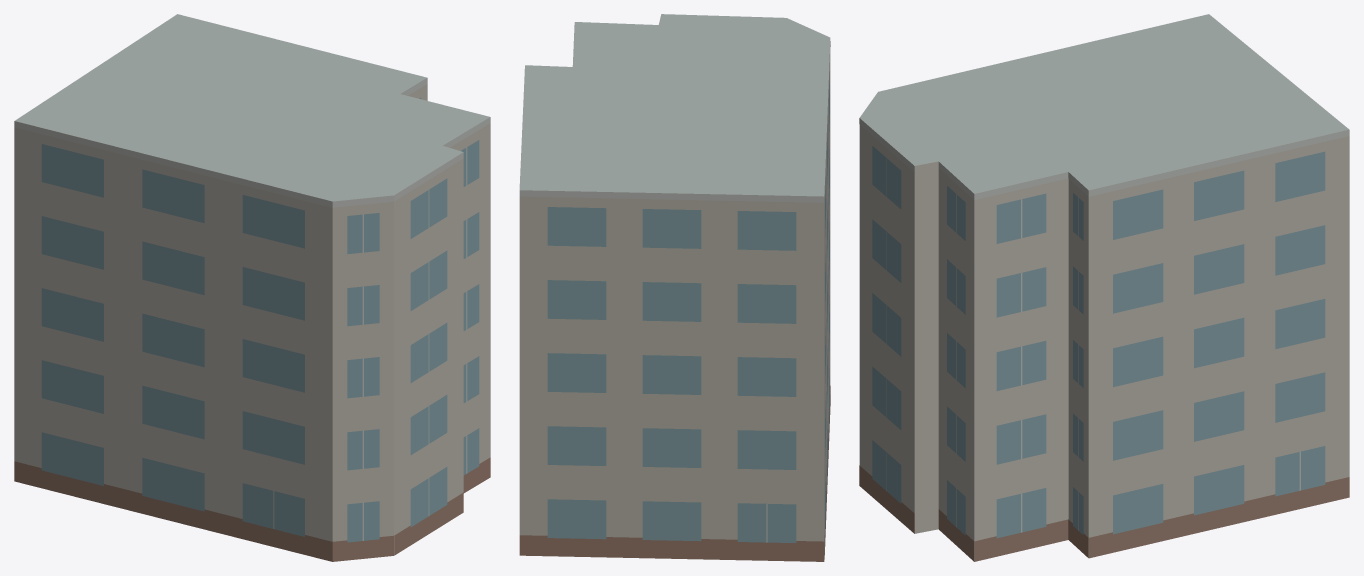
Rendered from survey-upis-32836637.glb.
3 renders of one model, left to right at view 1: azimuth 30°, elevation 25°; view 2: azimuth 150°, elevation 25°; view 3: azimuth 270°, elevation 25°, orthographic. The views are drawn at different scales.
Visible parts, largest first — view 1: survey-upis-32836637.tmp; view 2: survey-upis-32836637.tmp; view 3: survey-upis-32836637.tmp.
Part boxes in pixels (x1,y1,x2,y2): survey-upis-32836637.tmp: (14,14,490,561); survey-upis-32836637.tmp: (519,14,830,561); survey-upis-32836637.tmp: (859,14,1349,561).
Bounding box in the file's own units: 14.91 × 14.2 × 17.15.
